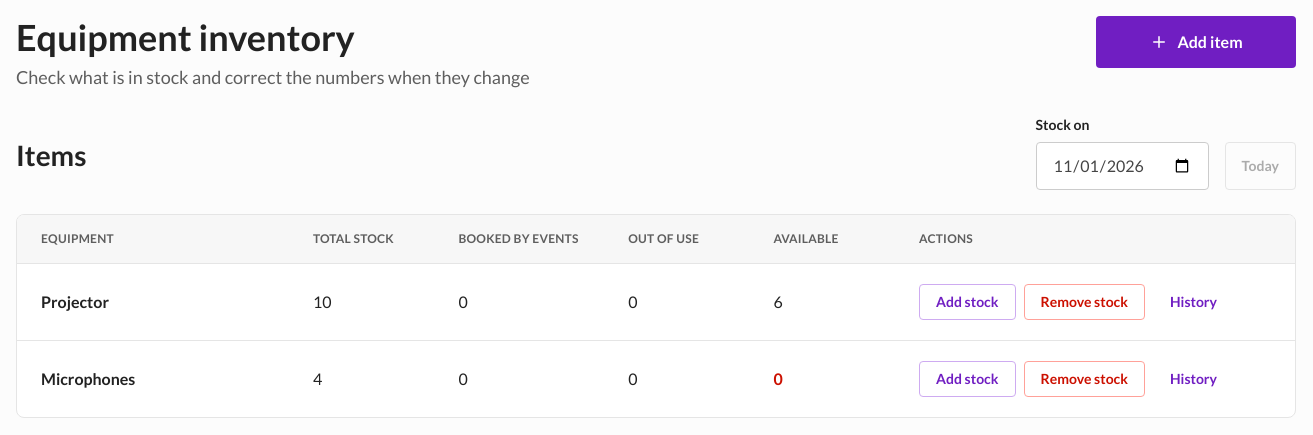
Test: EquipmentInventoryView — stock on a chosen day › reloads the table for the day picked
Type "2026-11-12" into the date field with test id "stock-date".
click(1122, 166); type("2026-11-12")  # box [1036,142,1209,190]
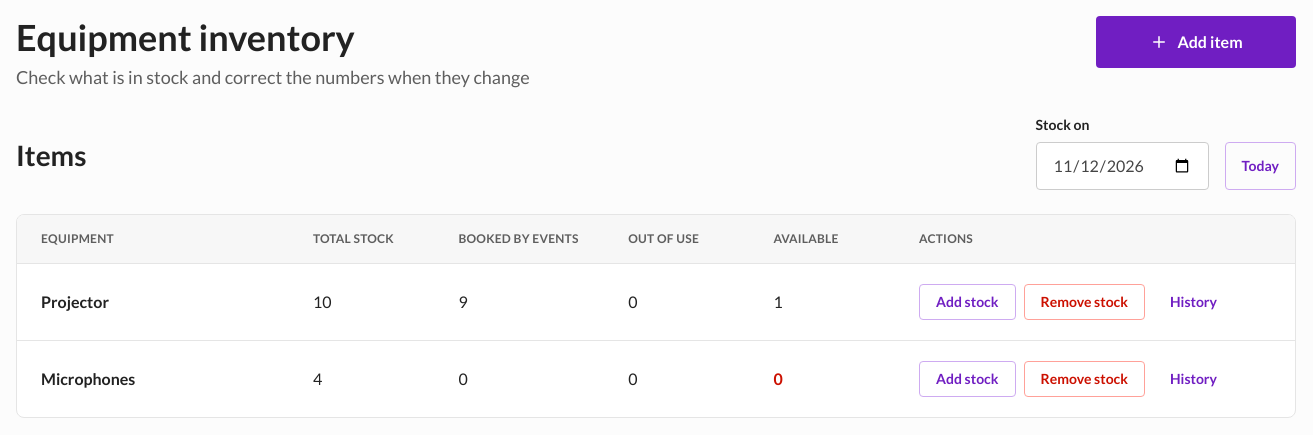
Now the button with test id "stock-today" is enabled, box [1225,142,1296,190]
